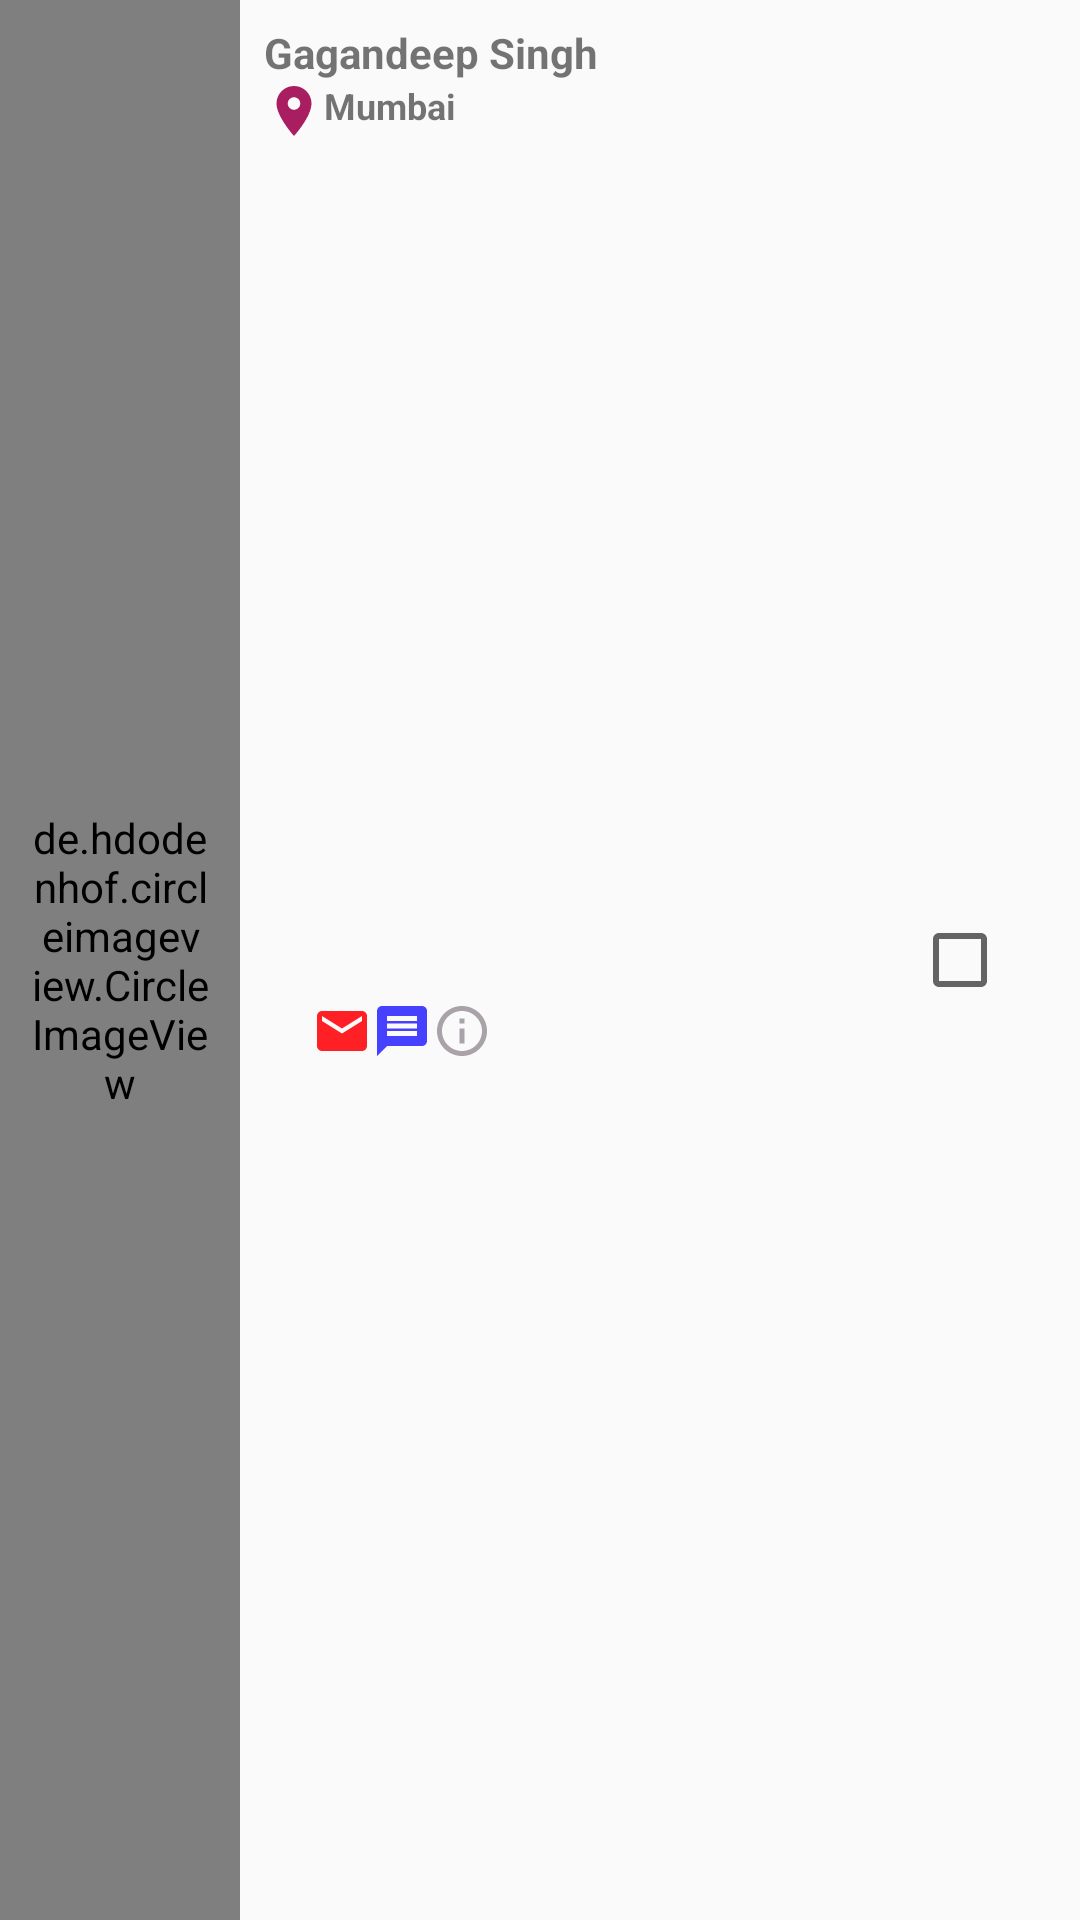

Screen size 1080 x 1920. Icon name, then its box in pixels as bbox=[x1, y1, x2, y2]:
email: bbox=[317, 1011, 367, 1051]
info: bbox=[437, 1006, 487, 1056]
location: bbox=[276, 86, 312, 136]
message: bbox=[377, 1006, 427, 1056]
